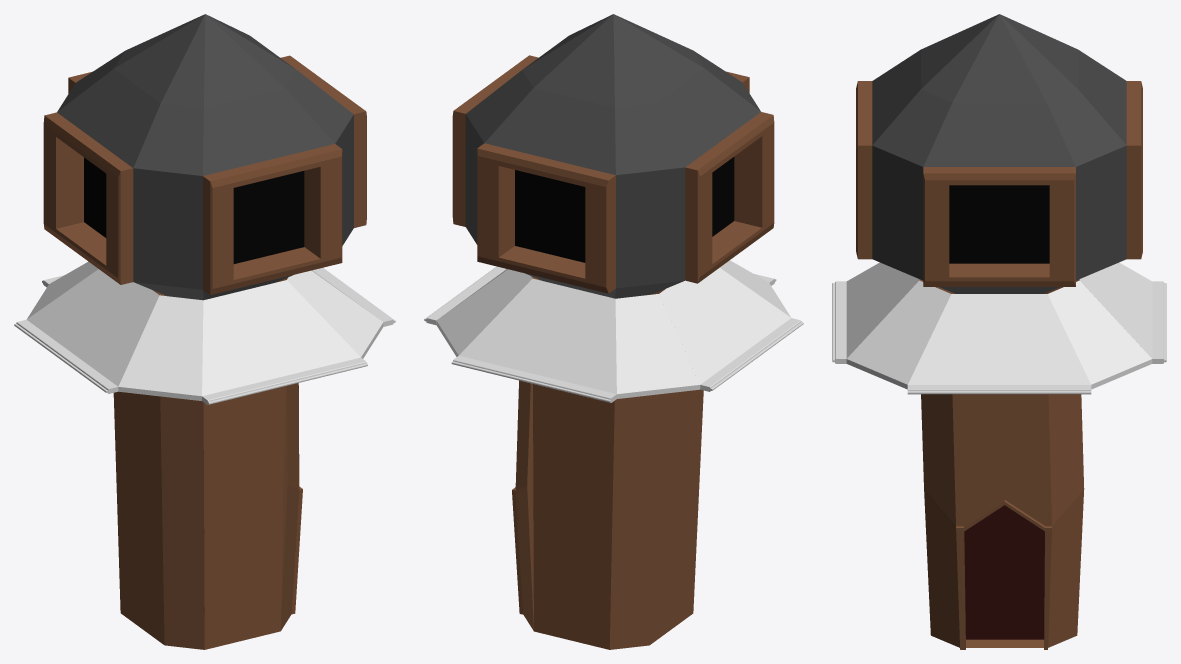
The picture shows the model from 3 angles, left to right: view 1: azimuth 30°, elevation 25°; view 2: azimuth 150°, elevation 25°; view 3: azimuth 270°, elevation 25°; orthographic projection.
Parts seen in each view (by area): view 1: Cube; view 2: Cube; view 3: Cube.
Boxes of the visible parts, bbox=[...] form: Cube: bbox=[14, 14, 395, 649]; Cube: bbox=[424, 14, 803, 649]; Cube: bbox=[832, 14, 1166, 649].
Size of the model in its own units: 2364 by 4696 by 2364.
